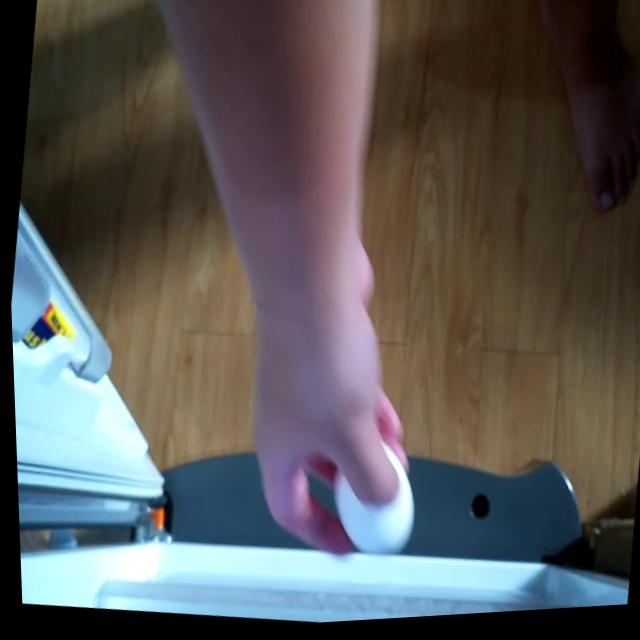egg: (328, 450, 417, 556)
